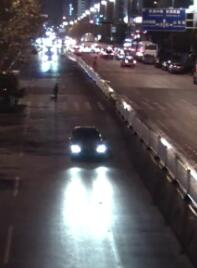bus: (136, 37, 159, 61)
car: (65, 122, 111, 166), (161, 54, 186, 72), (122, 54, 137, 65)
